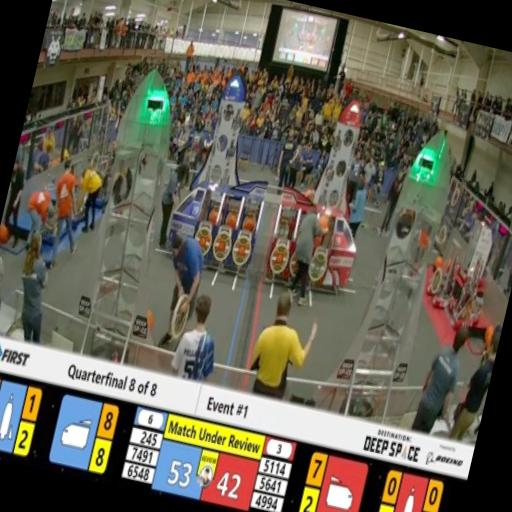robot: (423, 230, 470, 308), (447, 253, 491, 333), (460, 222, 500, 290)
